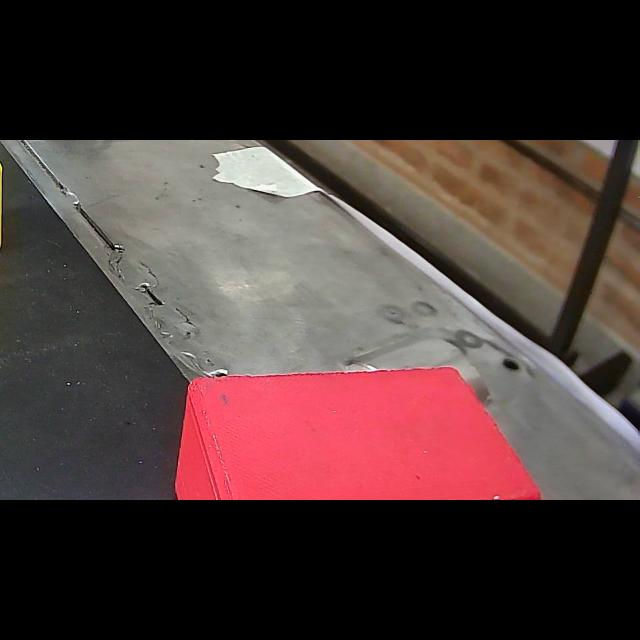redBox: (173, 356, 549, 499)
yellowBox: (0, 140, 12, 300)
